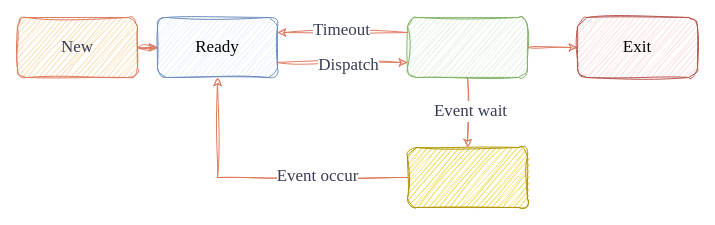
The diagram is 715 pixels wide and 225 high, and some of its shapes have lost their labels. The shapes that lost their labels are listed below. From the top down, each one's centre as x and y in pixels, then its label:
At (467,47): "Running".
At (467,177): "Blocking".
